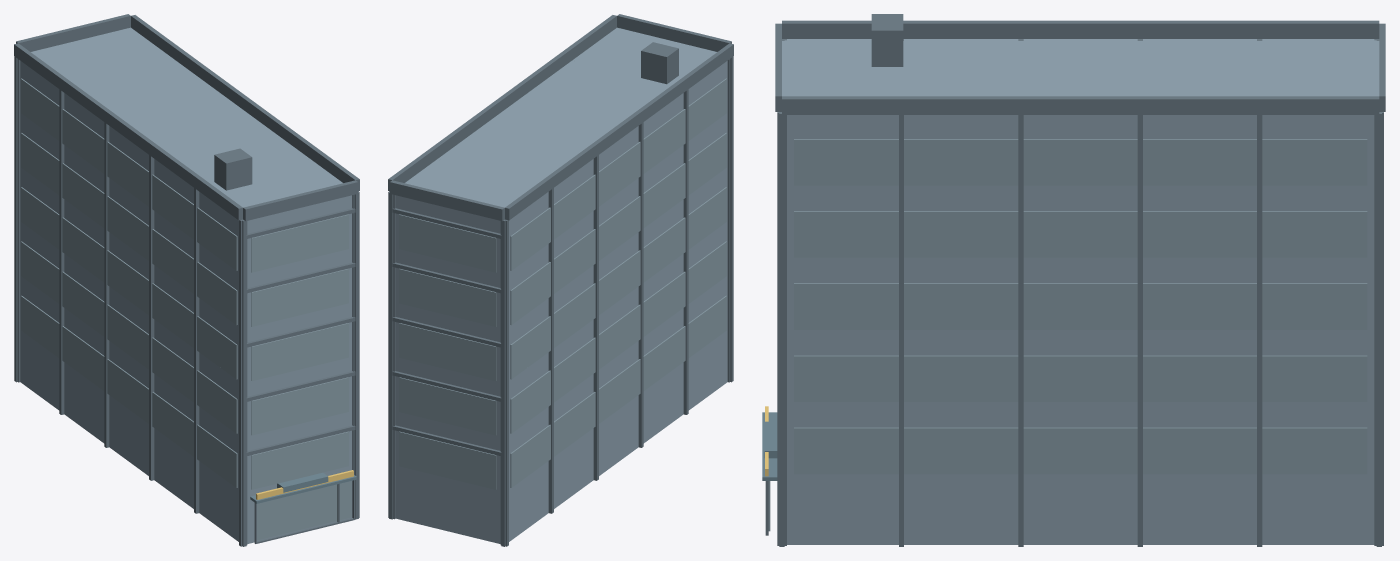
File: commercial_1x3_b.glb
The picture shows the model from 3 angles, left to right: view 1: azimuth 30°, elevation 25°; view 2: azimuth 150°, elevation 25°; view 3: azimuth 270°, elevation 25°; orthographic projection. The views are drawn at different scales.
Parts seen in each view (by area): view 1: commercial_1x3_b_0; view 2: commercial_1x3_b_0; view 3: commercial_1x3_b_0.
Part boxes in pixels (<box>): commercial_1x3_b_0: <box>14,14,359,546</box>; commercial_1x3_b_0: <box>388,14,733,546</box>; commercial_1x3_b_0: <box>762,14,1385,546</box>.
Bounding box in the file's own units: 7 × 19.5 × 23.5.
